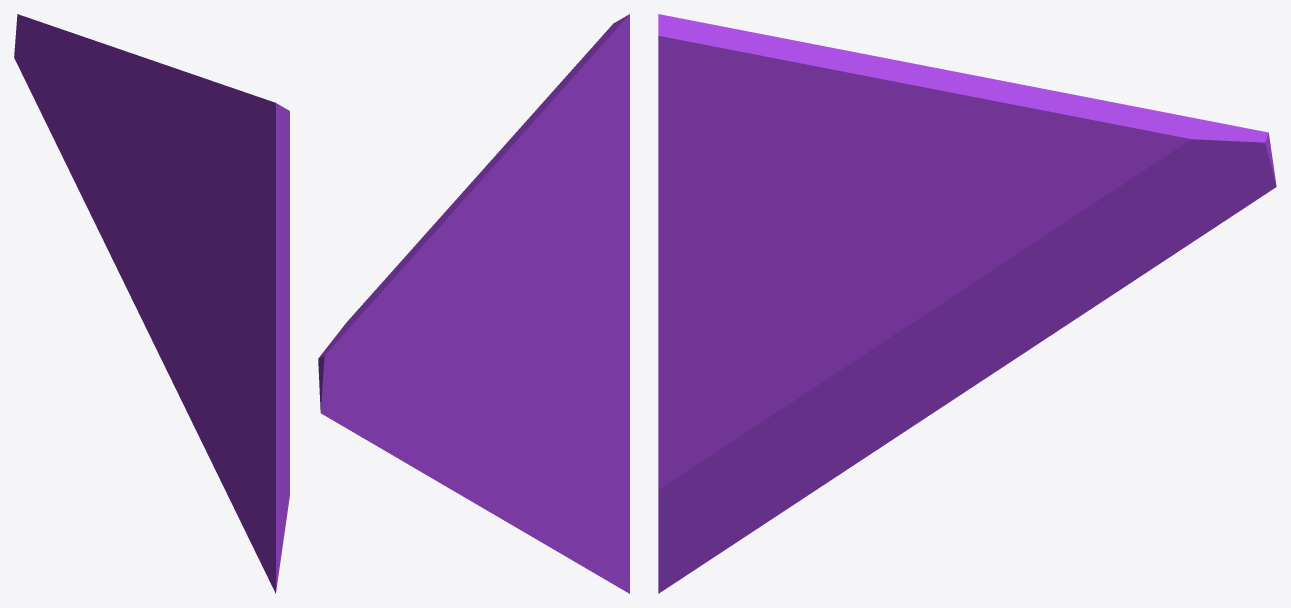
Rendered from Window_12_0_chunks.fbx.
3 views of the same model, side by side, from view 1: azimuth 30°, elevation 25°; view 2: azimuth 150°, elevation 25°; view 3: azimuth 270°, elevation 25° (orthographic). The views are drawn at different scales.
Parts seen in each view (by area): view 1: Window_12_0_3, Window_12_0_0, Window_12_0_9, Window_12_0_2, Window_12_0_5, Window_12_0_6, Window_12_0_8; view 2: Window_12_0_3, Window_12_0_0, Window_12_0_9, Window_12_0_2, Window_12_0_5, Window_12_0_6, Window_12_0_8, Window_12_0_1; view 3: Window_12_0_3, Window_12_0_0, Window_12_0_9, Window_12_0_2, Window_12_0_5, Window_12_0_6, Window_12_0_8, Window_12_0_7, Window_12_0_4.
Part boxes in pixels (left/top/right/bottom): Window_12_0_3: left=151, top=280, right=289, bottom=593; Window_12_0_0: left=14, top=14, right=148, bottom=277; Window_12_0_9: left=192, top=78, right=289, bottom=242; Window_12_0_2: left=183, top=195, right=289, bottom=367; Window_12_0_5: left=121, top=188, right=197, bottom=338; Window_12_0_6: left=109, top=45, right=204, bottom=148; Window_12_0_8: left=134, top=124, right=216, bottom=212; Window_12_0_3: left=483, top=327, right=629, bottom=593; Window_12_0_0: left=318, top=234, right=478, bottom=487; Window_12_0_9: left=530, top=14, right=629, bottom=242; Window_12_0_2: left=520, top=179, right=629, bottom=358; Window_12_0_5: left=447, top=284, right=536, bottom=507; Window_12_0_6: left=420, top=108, right=546, bottom=283; Window_12_0_8: left=462, top=213, right=560, bottom=305; Window_12_0_1: left=474, top=299, right=503, bottom=335; Window_12_0_3: left=658, top=320, right=951, bottom=593; Window_12_0_0: left=956, top=90, right=1276, bottom=353; Window_12_0_9: left=658, top=14, right=837, bottom=191; Window_12_0_2: left=658, top=189, right=873, bottom=336; Window_12_0_5: left=846, top=214, right=1022, bottom=400; Window_12_0_6: left=818, top=46, right=1051, bottom=174; Window_12_0_8: left=818, top=154, right=994, bottom=222; Window_12_0_7: left=679, top=124, right=862, bottom=207; Window_12_0_4: left=730, top=284, right=857, bottom=322.
Bounding box in the file's own units: 27.2 × 911 × 880.
